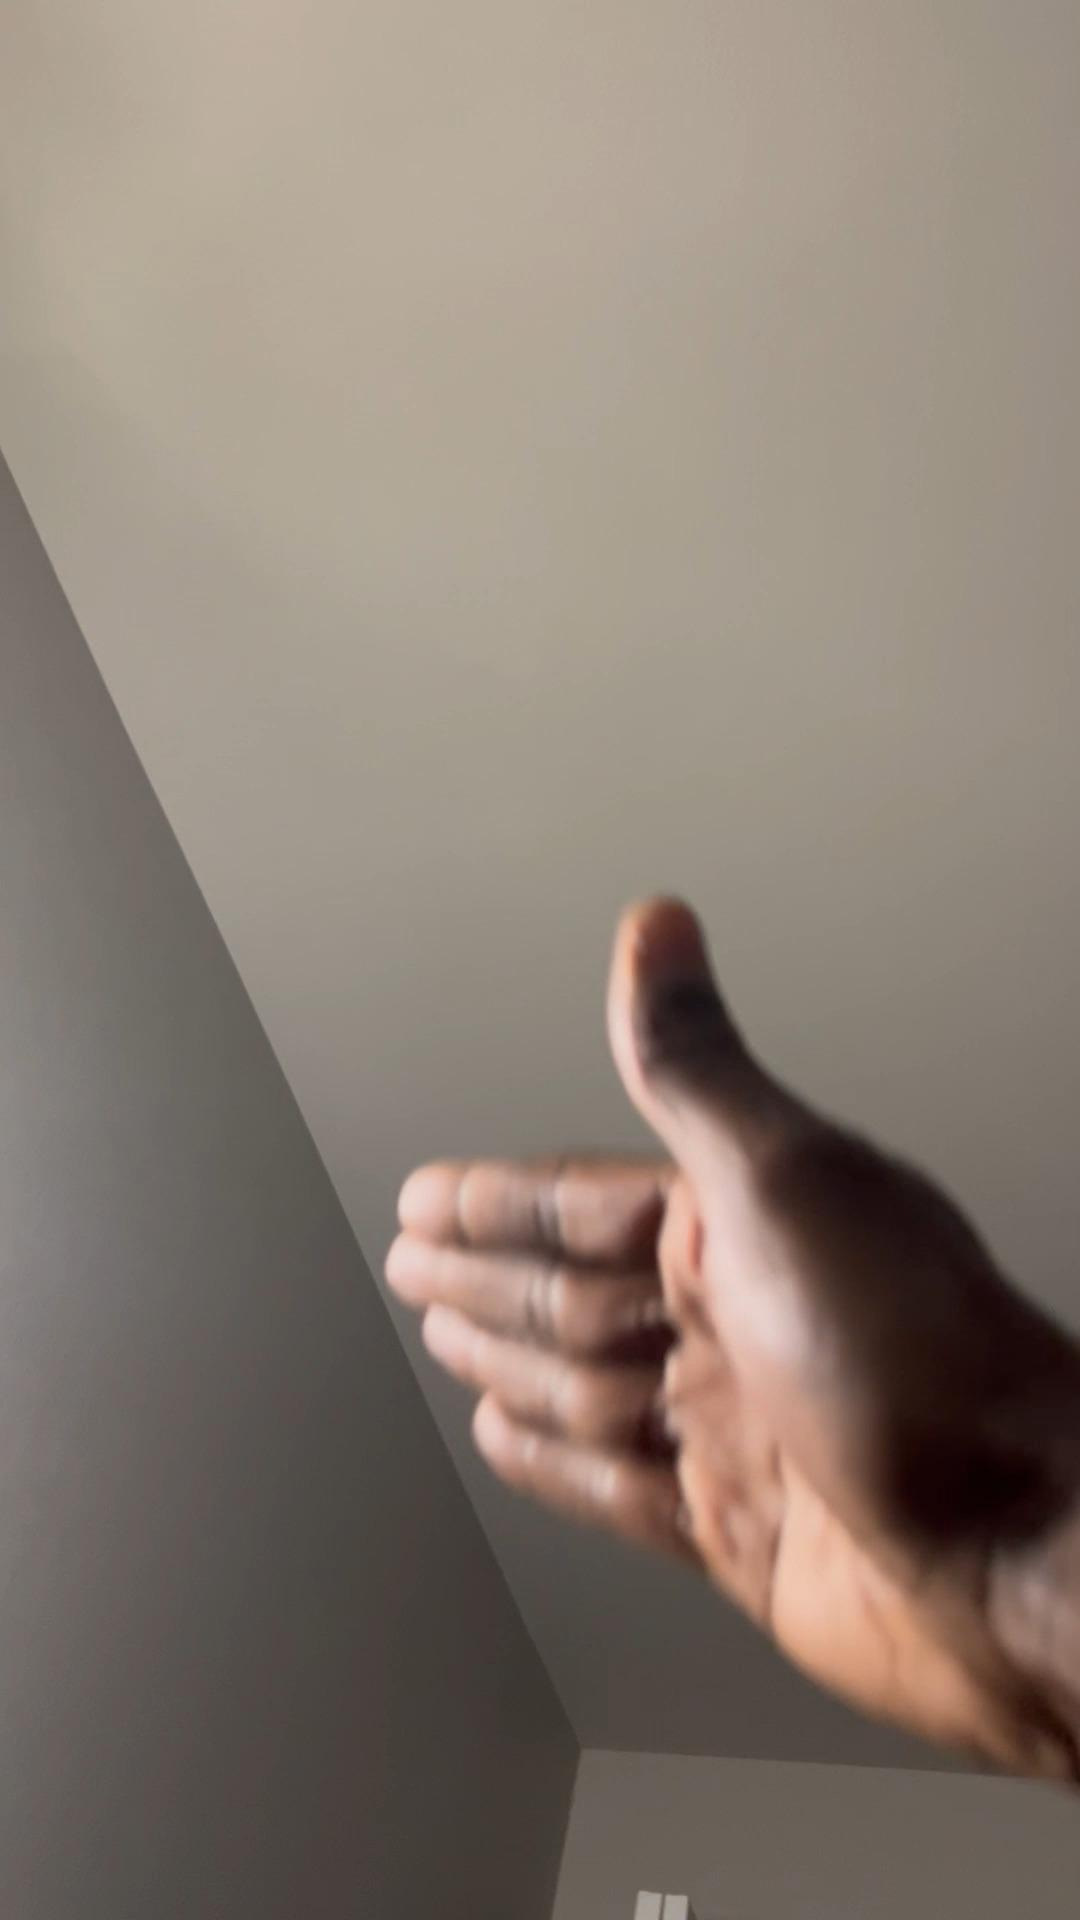Paper: (380, 886, 1050, 1772)
